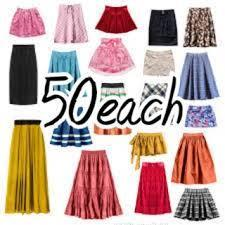skirt: (6, 117, 51, 217), (65, 148, 121, 220), (170, 132, 219, 186), (5, 42, 40, 108), (177, 52, 222, 103), (134, 161, 172, 218), (89, 37, 138, 77), (174, 187, 222, 222), (183, 5, 219, 50), (91, 4, 142, 33), (52, 4, 88, 45), (146, 9, 181, 48), (9, 6, 45, 37), (130, 130, 169, 158), (142, 49, 177, 79), (184, 103, 218, 130)
